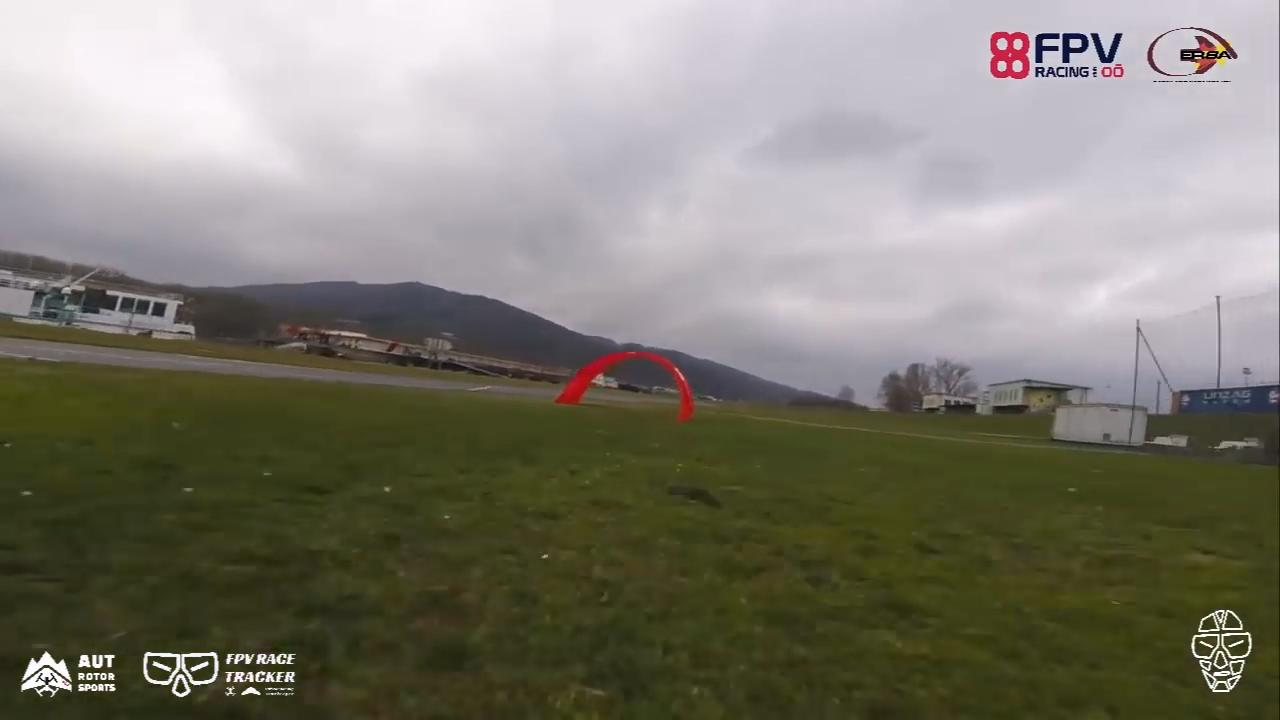gate: (554, 347, 694, 424)
